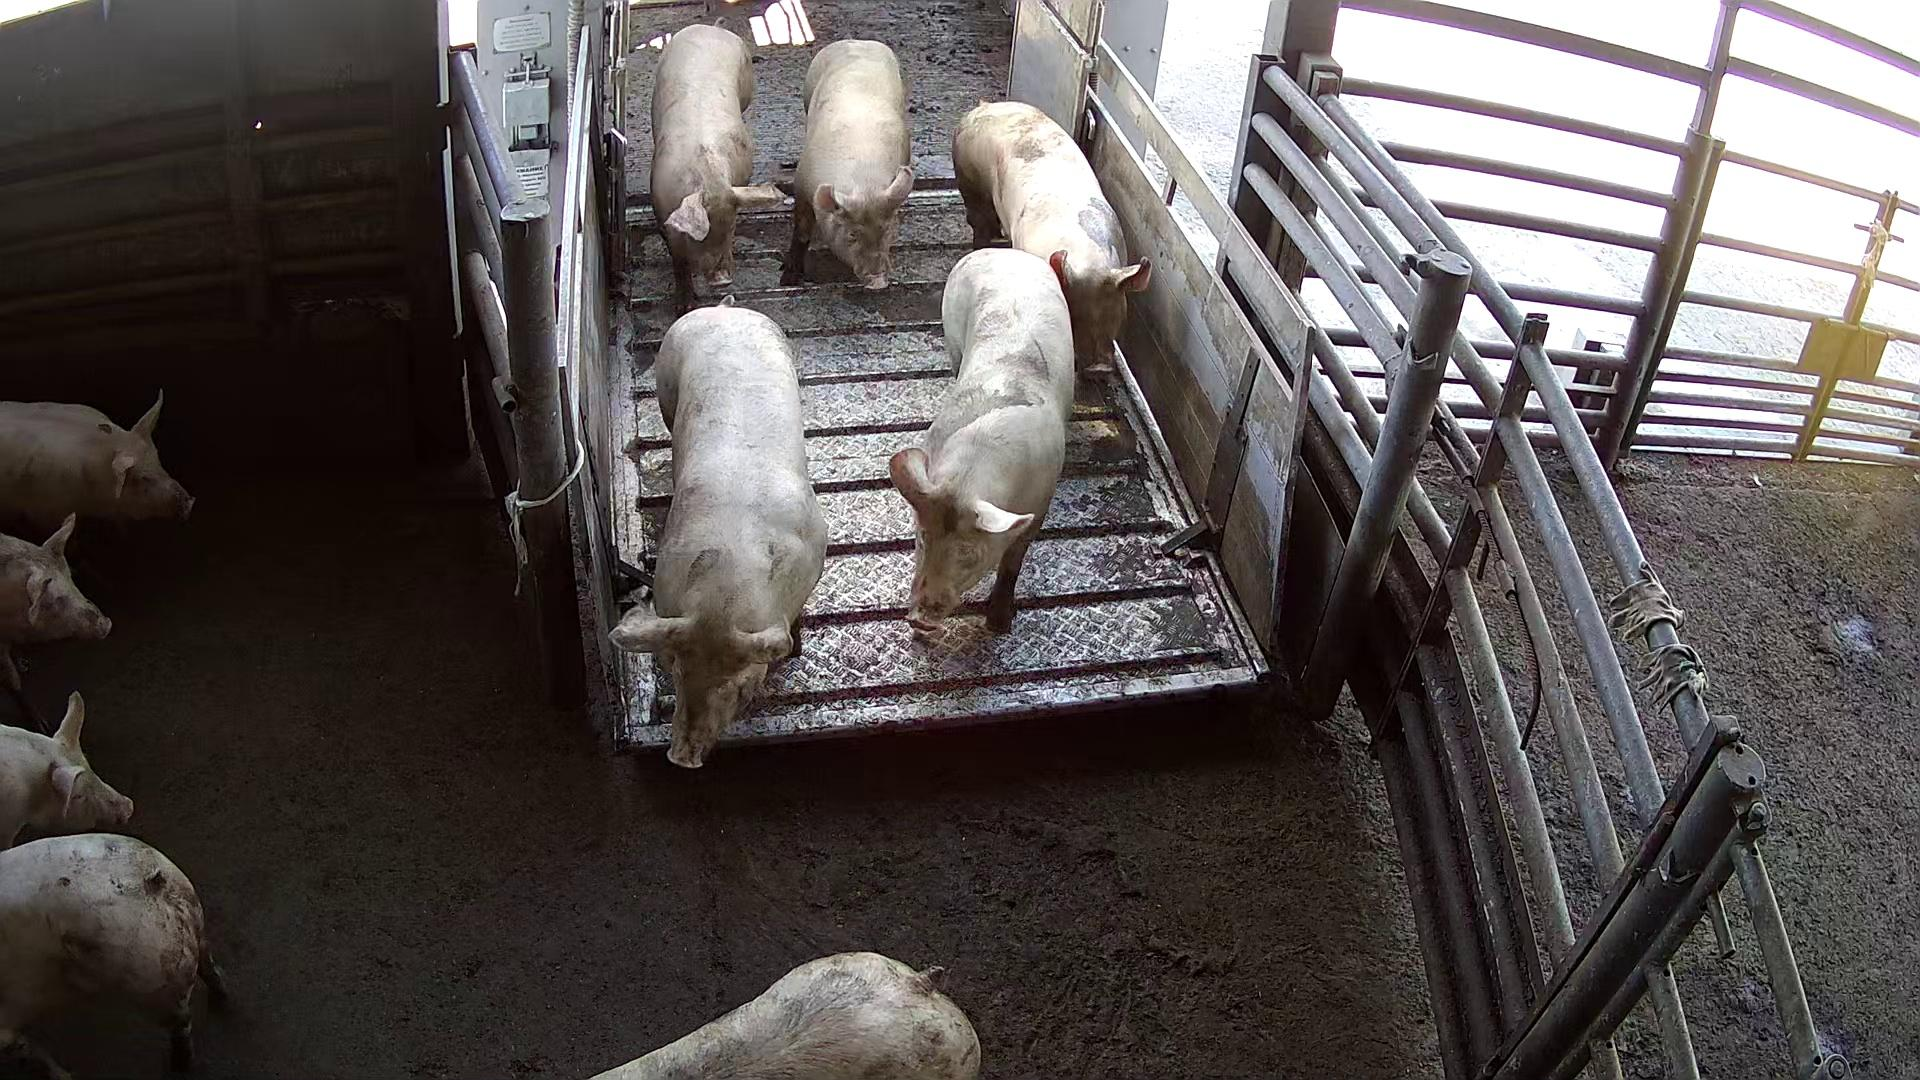Pig: (609, 303, 828, 767), (891, 247, 1076, 633), (953, 100, 1153, 372), (0, 835, 223, 1071), (592, 953, 980, 1080), (649, 22, 781, 314), (781, 37, 913, 287), (0, 390, 191, 525), (0, 692, 129, 849), (0, 512, 108, 687)
